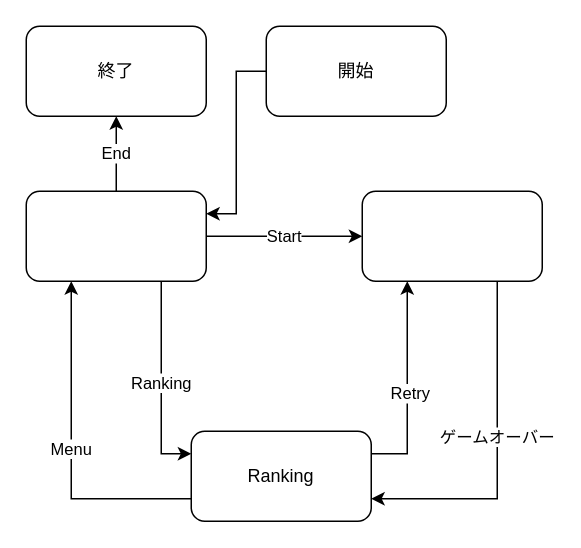
The diagram is 581 pixels wide and 548 high, and some of its shapes have lost their labels. Here are the shapes that lost their labels. From the top down, the centre of each, then its label:
At [115,235]: "メニュー画面".
At [451,235]: "プレイ画面".
